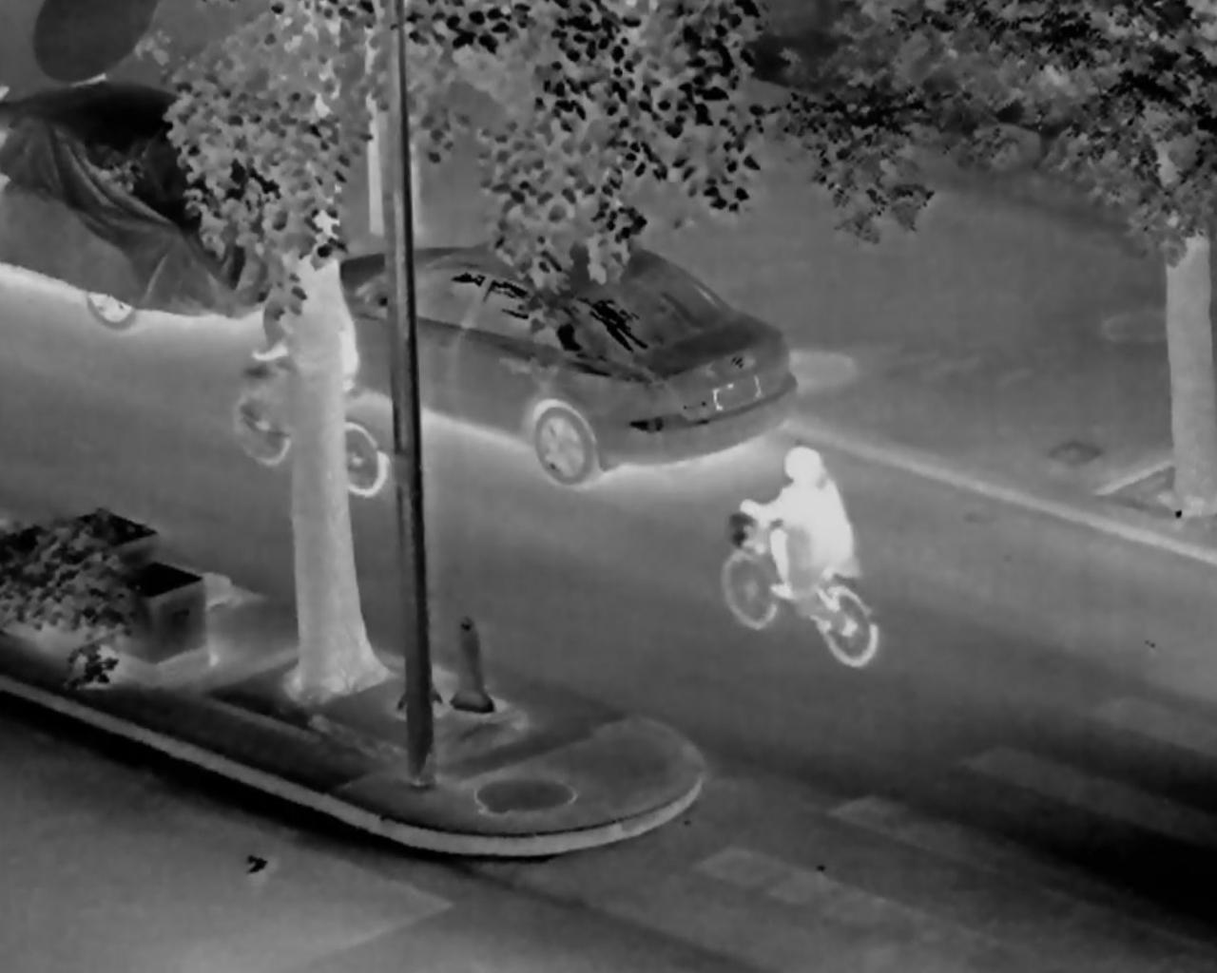person: (739, 447, 860, 627), (255, 278, 362, 456)
